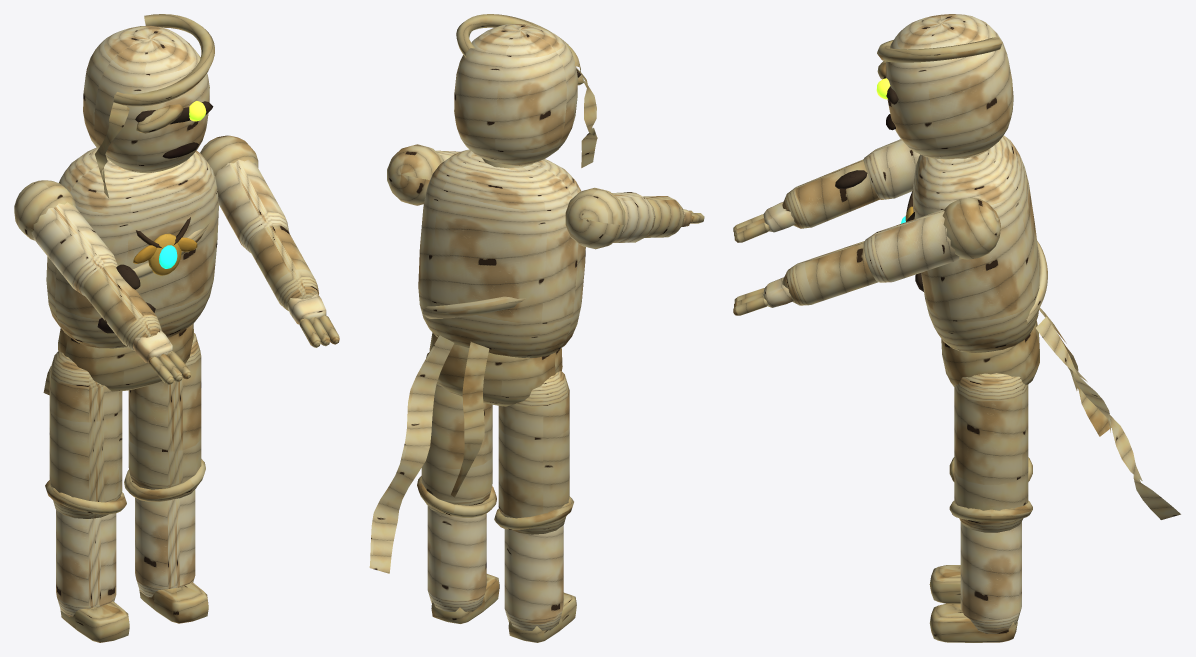
The picture shows the model from 3 angles, left to right: view 1: azimuth 30°, elevation 25°; view 2: azimuth 150°, elevation 25°; view 3: azimuth 270°, elevation 25°; orthographic projection. The views are drawn at different scales.
Parts seen in each view (by area): view 1: Body, LegR, Head, LegL, ArmR, ArmL; view 2: Body, LegR, Head, LegL, Tail, ArmR, ArmL; view 3: Body, LegL, Head, ArmL, ArmR, Tail, LegR.
Part boxes in pixels (left/top/right/bottom): Body: left=46, top=147, right=218, bottom=391; LegR: left=45, top=351, right=129, bottom=642; Head: left=83, top=14, right=214, bottom=197; LegL: left=124, top=333, right=208, bottom=623; ArmR: left=14, top=180, right=191, bottom=384; ArmL: left=200, top=135, right=339, bottom=347; Body: left=418, top=149, right=585, bottom=406; LegR: left=494, top=371, right=576, bottom=642; Head: left=454, top=14, right=597, bottom=167; LegL: left=417, top=352, right=499, bottom=623; Tail: left=369, top=335, right=489, bottom=573; ArmR: left=565, top=187, right=704, bottom=249; ArmL: left=387, top=144, right=460, bottom=205; Body: left=901, top=135, right=1047, bottom=386; LegL: left=929, top=373, right=1032, bottom=642; Head: left=876, top=14, right=1013, bottom=159; ArmL: left=733, top=197, right=1000, bottom=315; ArmR: left=733, top=139, right=919, bottom=242; Tail: left=1036, top=308, right=1180, bottom=519; LegR: left=929, top=385, right=1032, bottom=603.
Bounding box in the file's own units: 0.7794 × 1.87 × 1.28.
6 materials, 3 textured.
